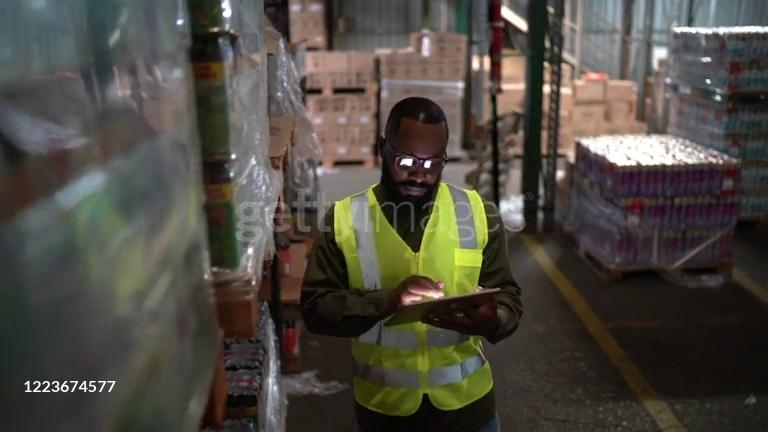person: (298, 96, 524, 432)
